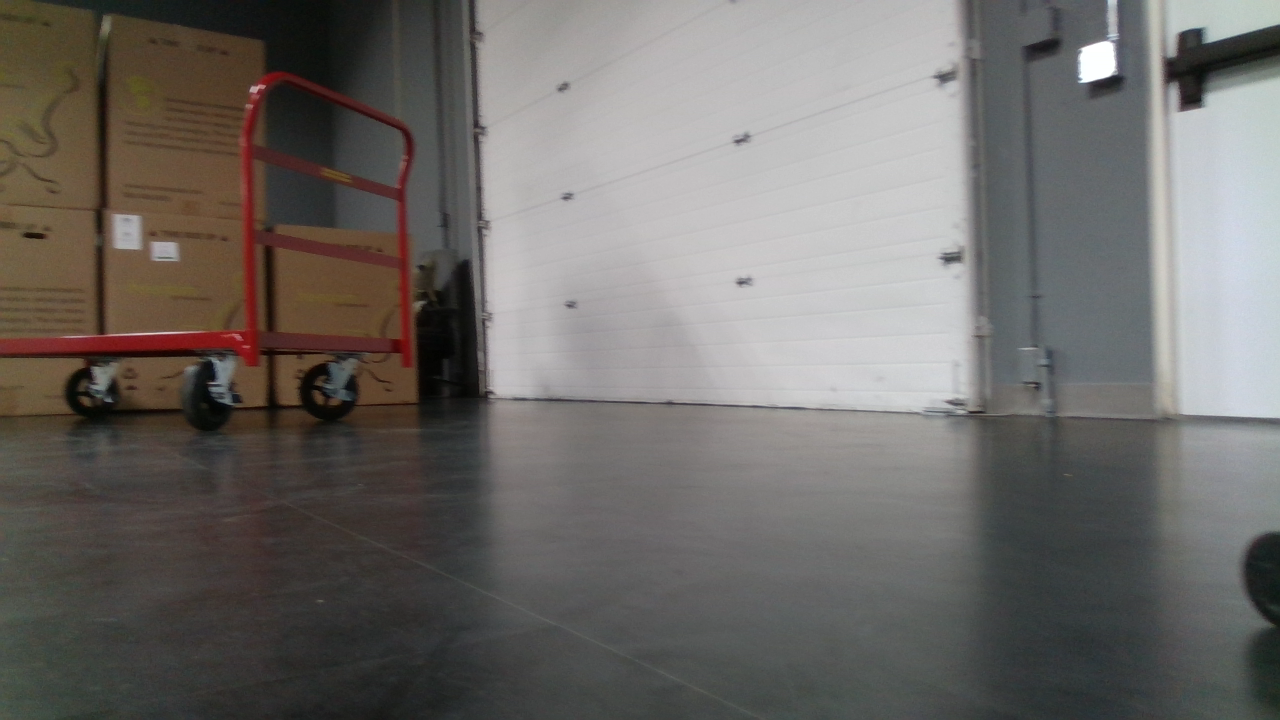Dolly: (0, 72, 416, 434)
Wheel: (179, 359, 245, 432), (299, 361, 361, 423), (64, 365, 122, 423)
